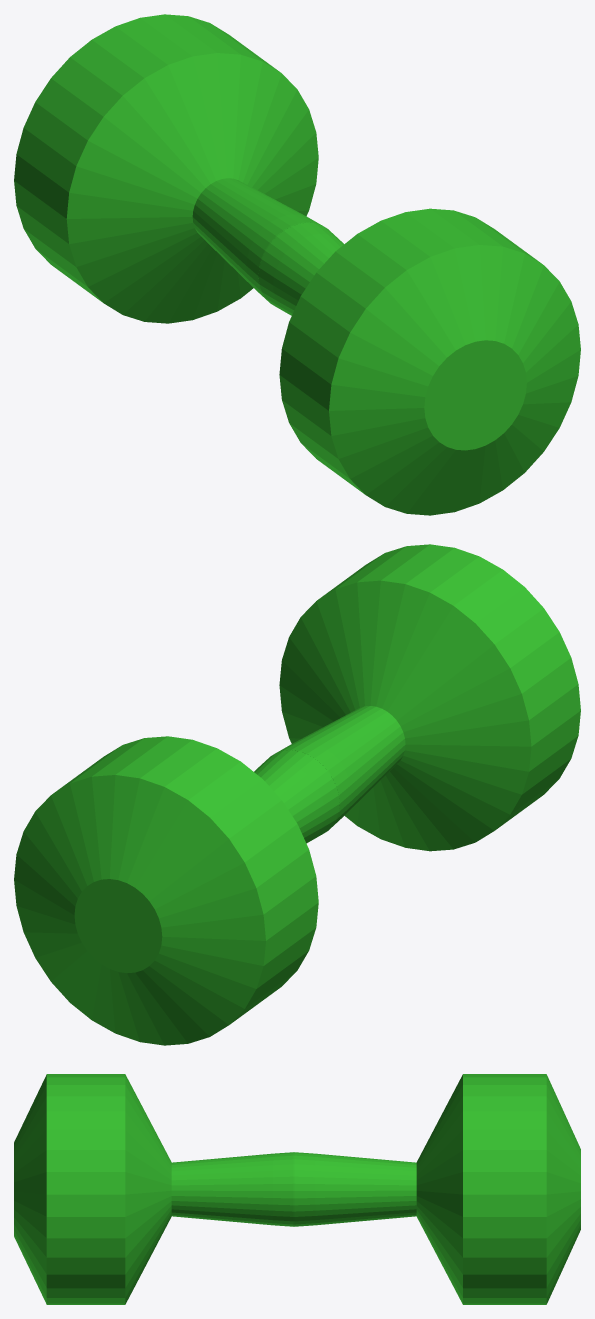
The model's file is dumbell 22.11.2023.fbx.
The picture shows the model from 3 angles, top to bottom: view 1: azimuth 30°, elevation 25°; view 2: azimuth 150°, elevation 25°; view 3: azimuth 270°, elevation 25°; orthographic projection. The views are drawn at different scales.
Visible parts, largest first — view 1: Cylinder; view 2: Cylinder; view 3: Cylinder.
Part boxes in pixels (left/top/right/bottom): Cylinder: left=14, top=14, right=580, bottom=515; Cylinder: left=14, top=544, right=580, bottom=1045; Cylinder: left=14, top=1074, right=580, bottom=1304.
Size of the model in its own units: 23.5 by 23.5 by 57.7.
